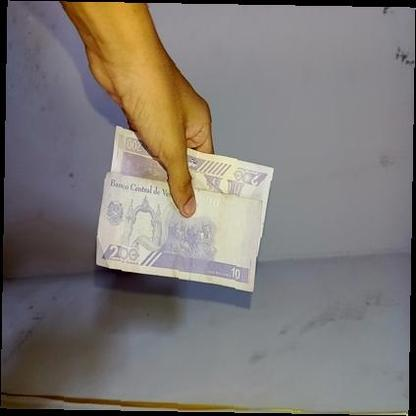ten-back-vef: (94, 171, 262, 292)
two_hundred-back-vef: (111, 124, 274, 205)
